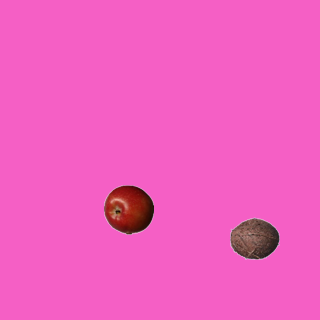Apple Braeburn: (103, 184, 153, 234)
Cocos: (229, 213, 279, 263)
